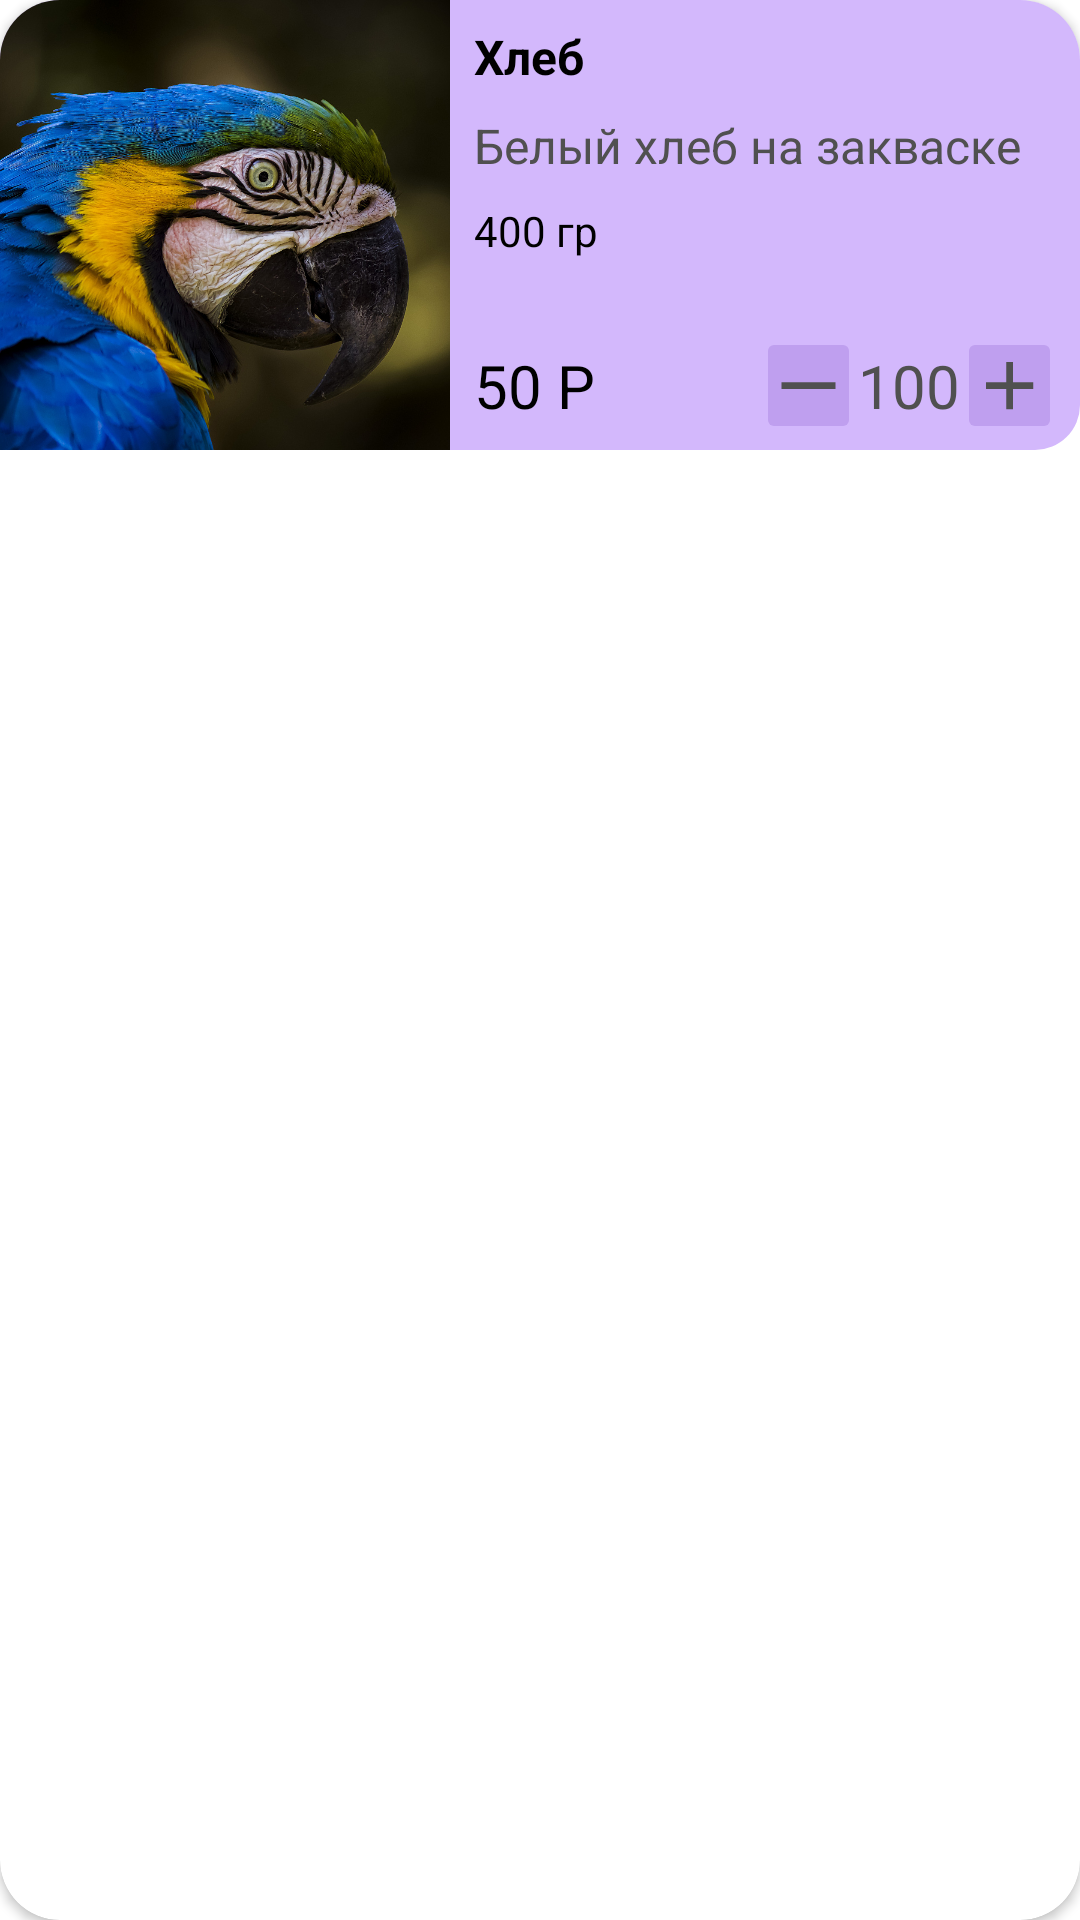

Icon bounding boxes for this 1080 × 1920 phone screenshot, format box=[x1, y1, x2, y2]:
add: box=[969, 345, 1050, 426]
horizontal rule: box=[768, 345, 849, 426]
